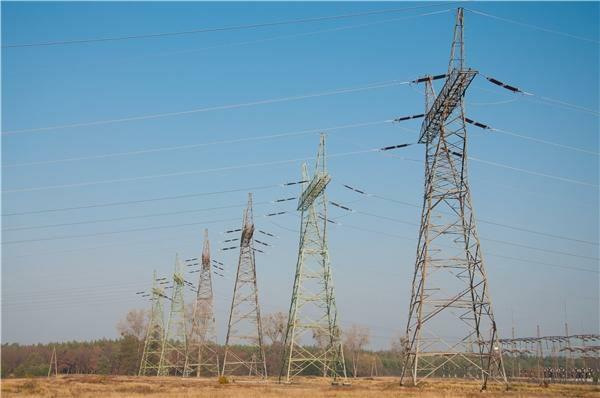power_tower: (392, 6, 513, 391), (279, 114, 370, 384), (220, 181, 291, 380), (183, 214, 228, 386)
